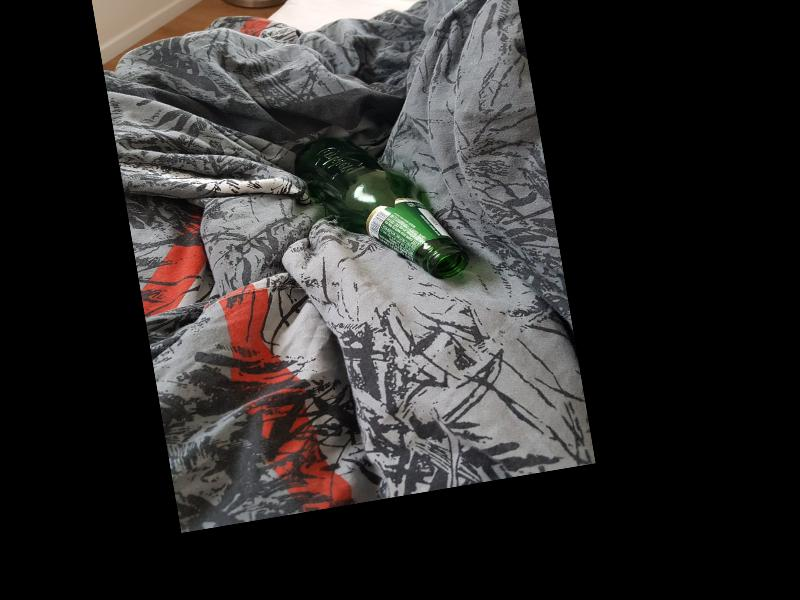Beer: (291, 118, 469, 301)
